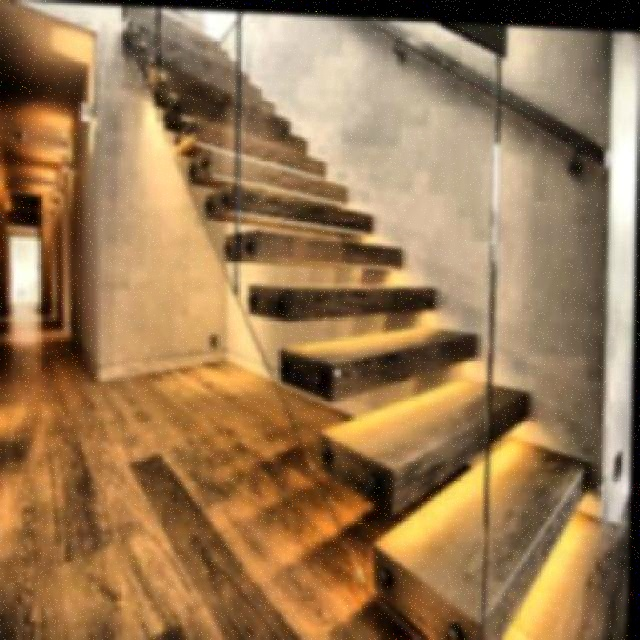stair: (194, 16, 529, 638)
